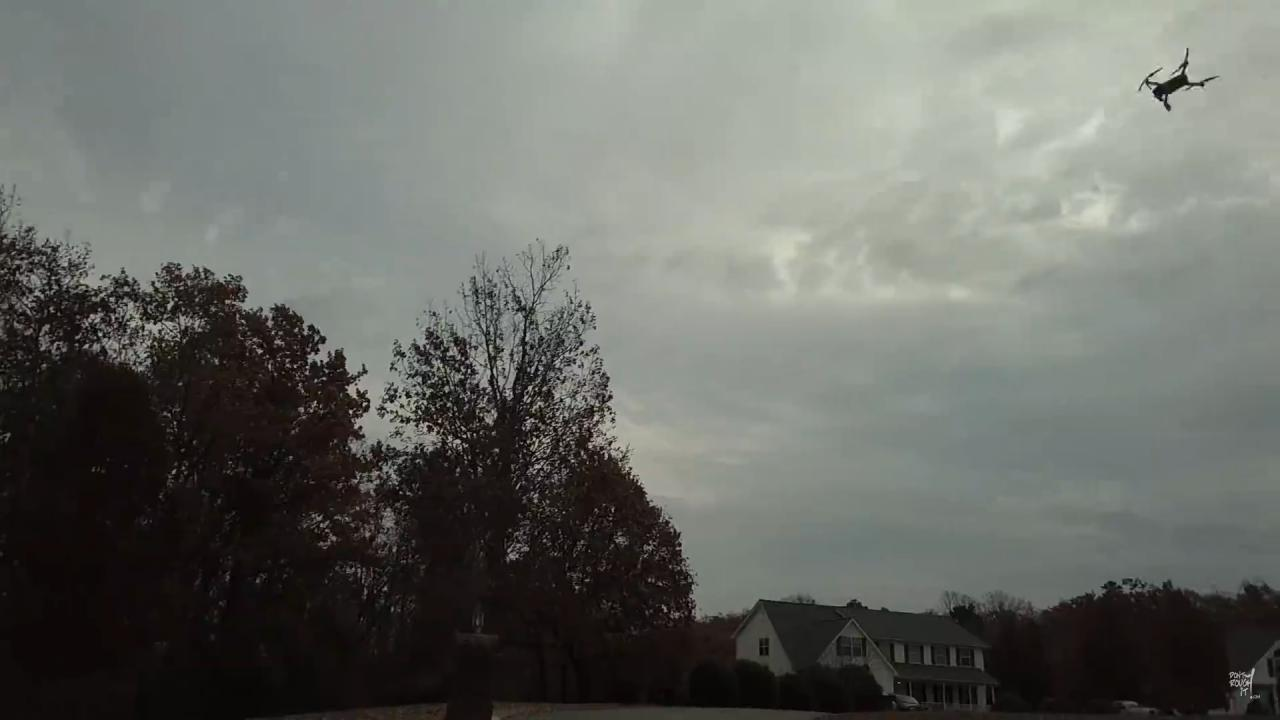Drone: (1127, 40, 1226, 120)
